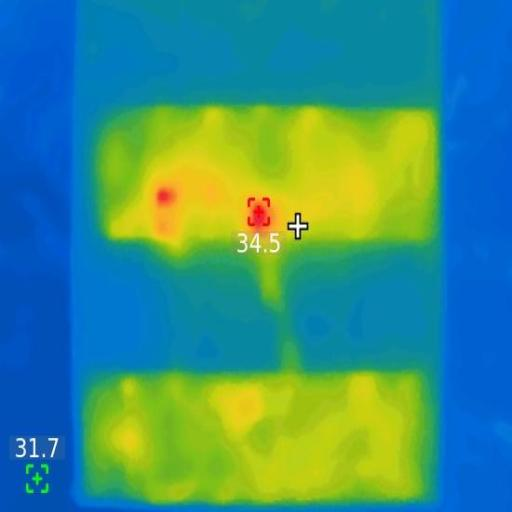hotspot: (246, 198, 272, 230), (155, 187, 178, 207)
